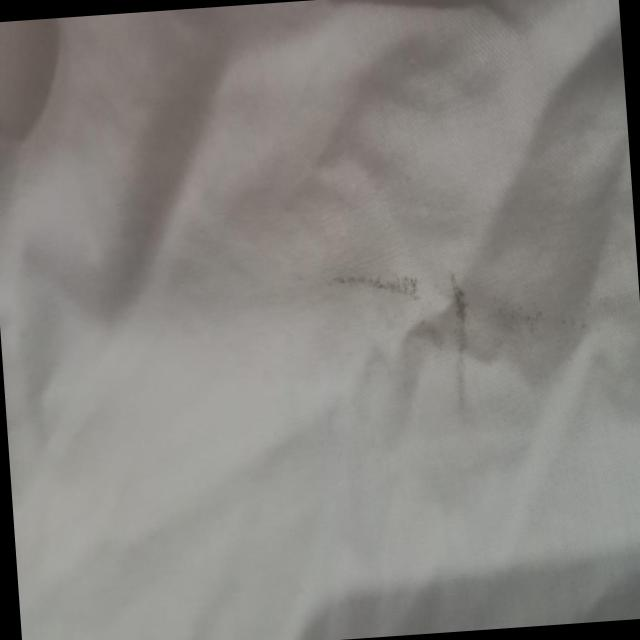stain: (311, 245, 490, 440)
